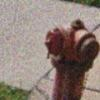a fire hydrant: (41, 17, 100, 100)
